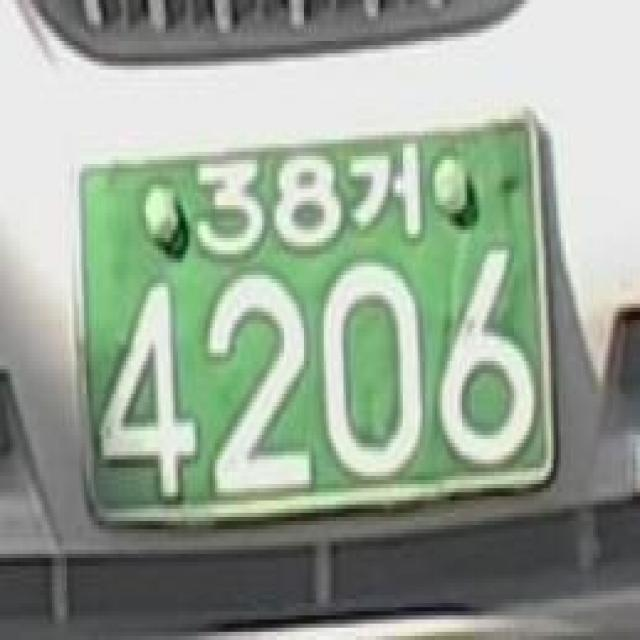illegal_plate: (60, 116, 568, 556)
